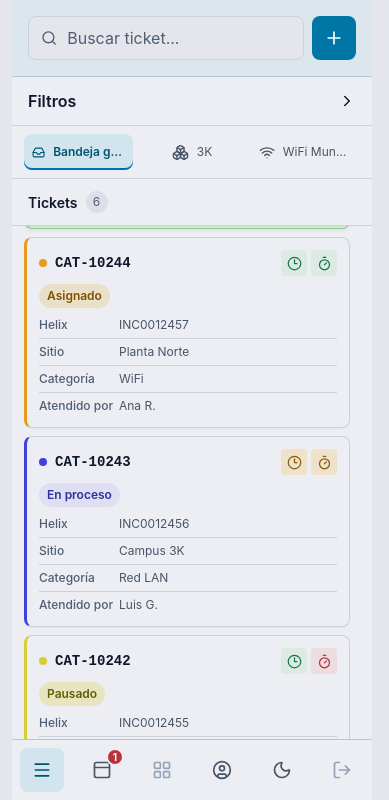
Test case: Sidebar › closes the panel and focuses the list start from Pendientes
(page scrolled)
Click the button named "Desplegar menú". click: (42,770)
box: [20,748,64,792]
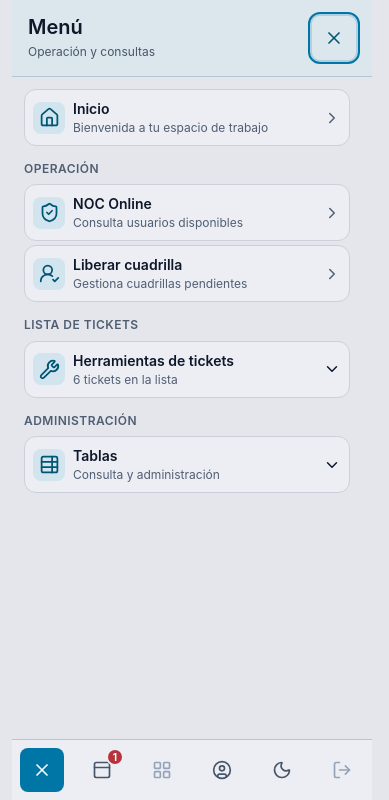
Click the button named "Pendientes: 1 sin leer". click: (102,770)
box: [80,748,124,792]
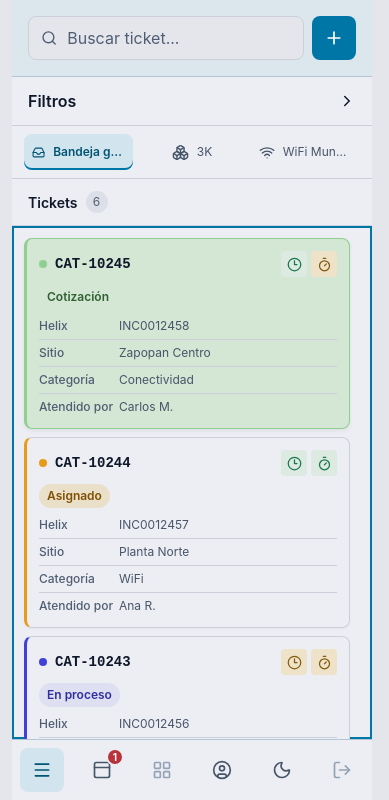
expect the heading "Menú" is gone: met
